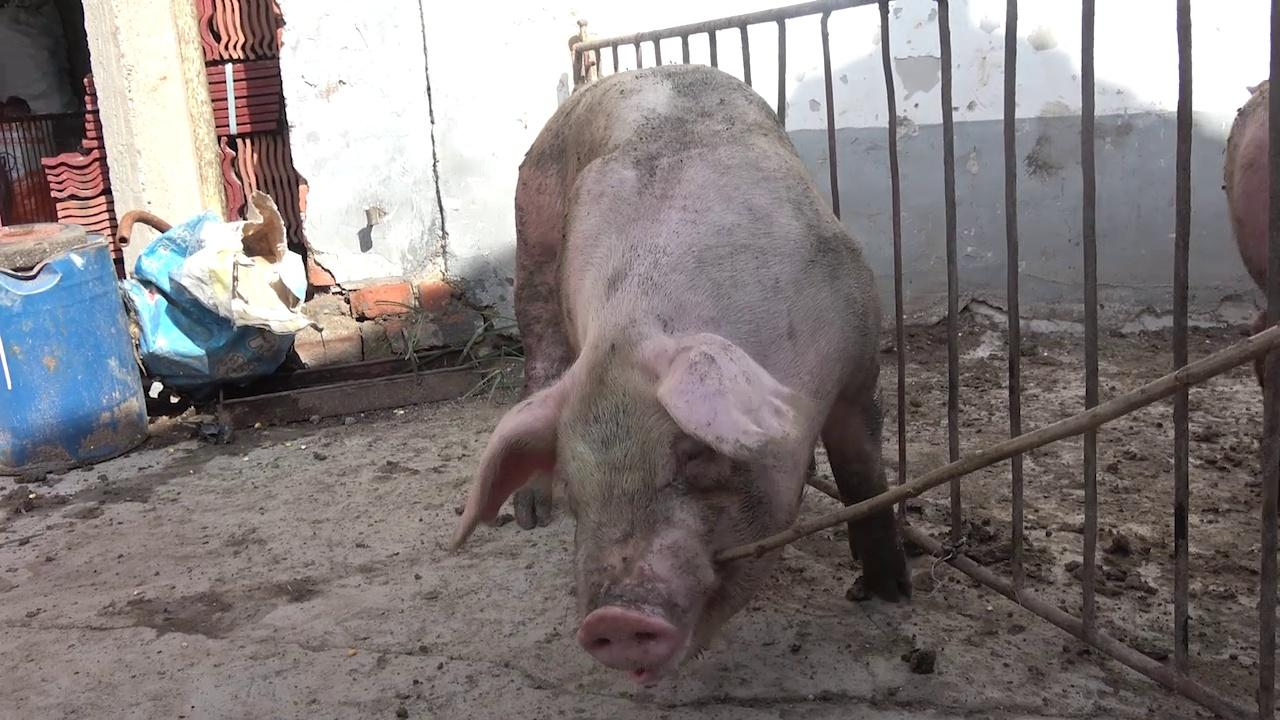Face: (440, 325, 825, 679)
